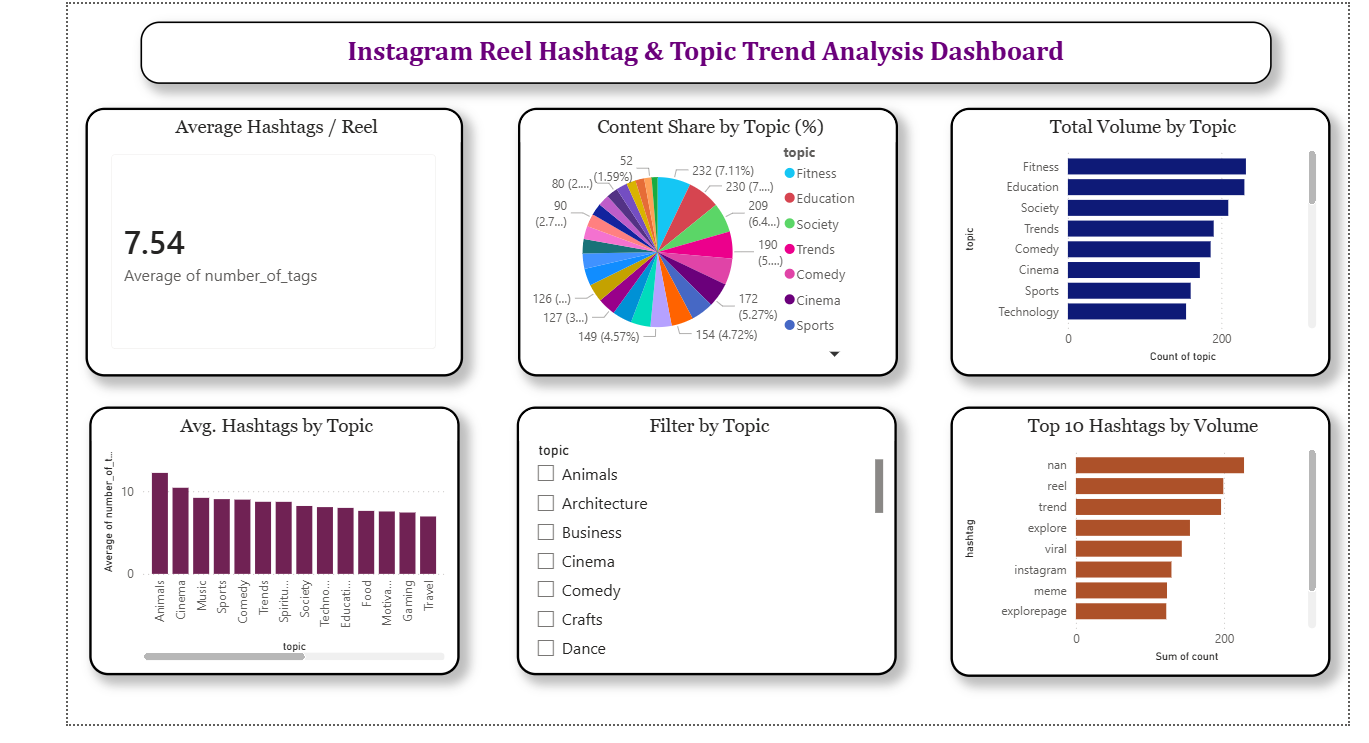

The dashboard page shown, as its layout file describes it:
{"tool":"powerbi","page":{"name":"Page 1","canvas":[1280,720],"ordinal":0},"visuals":[{"type":"clusteredBarChart","title":"Total Volume by Topic","fields":{"Category":["cleaned_reels_analysis.topic"],"Y":["CountNonNull(cleaned_reels_analysis.topic)"]},"box":[882.5,103.8,380,268.8],"z":0},{"type":"clusteredColumnChart","title":"Avg. Hashtags by Topic","fields":{"Category":["cleaned_reels_analysis.topic"],"Y":["Avg(cleaned_reels_analysis.number_of_tags)"]},"box":[21.4,402.9,370,268.6],"z":1000},{"type":"cardVisual","title":"Average Hashtags / Reel","fields":{"Data":["Avg(cleaned_reels_analysis.number_of_tags)"]},"box":[17.5,103.8,377.5,268.8],"z":2000},{"type":"pieChart","title":"Content Share by Topic (%)","fields":{"Category":["cleaned_reels_analysis.topic"],"Y":["CountNonNull(cleaned_reels_analysis.topic)"]},"box":[450,103.8,380,268.8],"z":3000},{"type":"slicer","title":"Filter by Topic","fields":{"Values":["cleaned_reels_analysis.topic"]},"box":[448.6,402.9,380,268.6],"z":4000},{"type":"textbox","box":[72.5,17.5,1131.2,62.5],"z":5000},{"type":"clusteredBarChart","title":"Top 10 Hashtags by Volume","fields":{"Category":["top_hashtags.hashtag"],"Y":["Sum(top_hashtags.count)"]},"box":[882.5,402.5,380,270],"z":6000},{"type":"textbox","box":[828.8,683.8,433.8,27.5],"z":6001}]}

Visuals, with their boxes in screenshot pixels (x1, y1, x2, y2):
"Total Volume by Topic" clusteredBarChart: rect(953, 102, 1339, 375)
"Avg. Hashtags by Topic" clusteredColumnChart: rect(79, 406, 455, 678)
"Average Hashtags / Reel" cardVisual: rect(75, 102, 458, 375)
"Content Share by Topic (%)" pieChart: rect(514, 102, 900, 375)
"Filter by Topic" slicer: rect(513, 406, 899, 678)
textbox: rect(131, 14, 1280, 78)
"Top 10 Hashtags by Volume" clusteredBarChart: rect(953, 405, 1339, 679)
textbox: rect(899, 691, 1339, 719)
